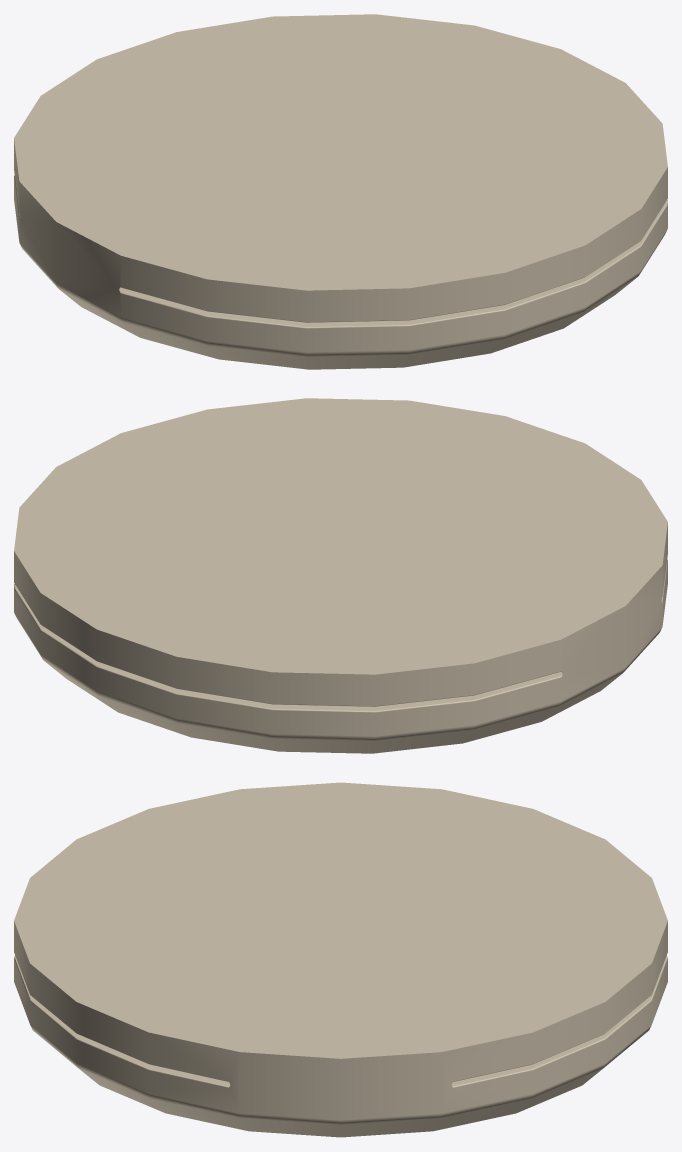
Rendered from Ceiling_Cover.fbx.
3 renders of one model, top to bottom at view 1: azimuth 30°, elevation 25°; view 2: azimuth 150°, elevation 25°; view 3: azimuth 270°, elevation 25°, orthographic.
Visible parts, largest first — view 1: Ceiling_Cover; view 2: Ceiling_Cover; view 3: Ceiling_Cover.
Boxes of the visible parts, x1,y1,x2,y2 form: Ceiling_Cover: [14, 14, 667, 369]; Ceiling_Cover: [14, 398, 667, 753]; Ceiling_Cover: [14, 782, 667, 1137].
Size of the model in its own units: 0.0716 by 0.0716 by 0.0113.
